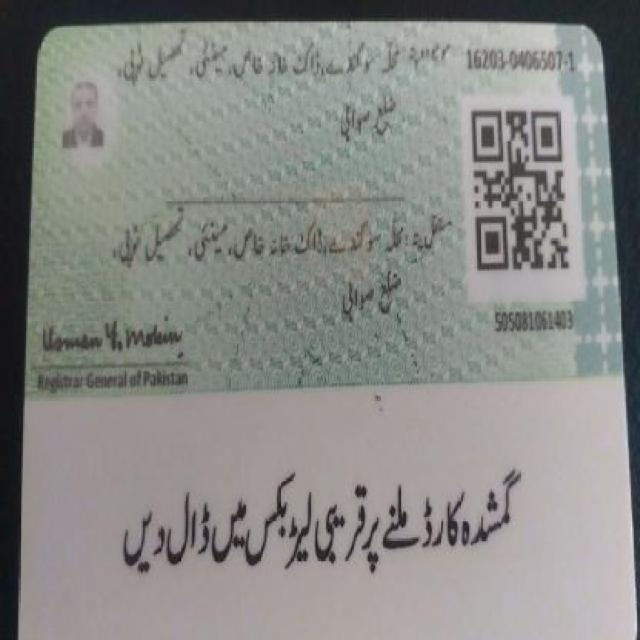Back: (15, 15, 632, 637)
